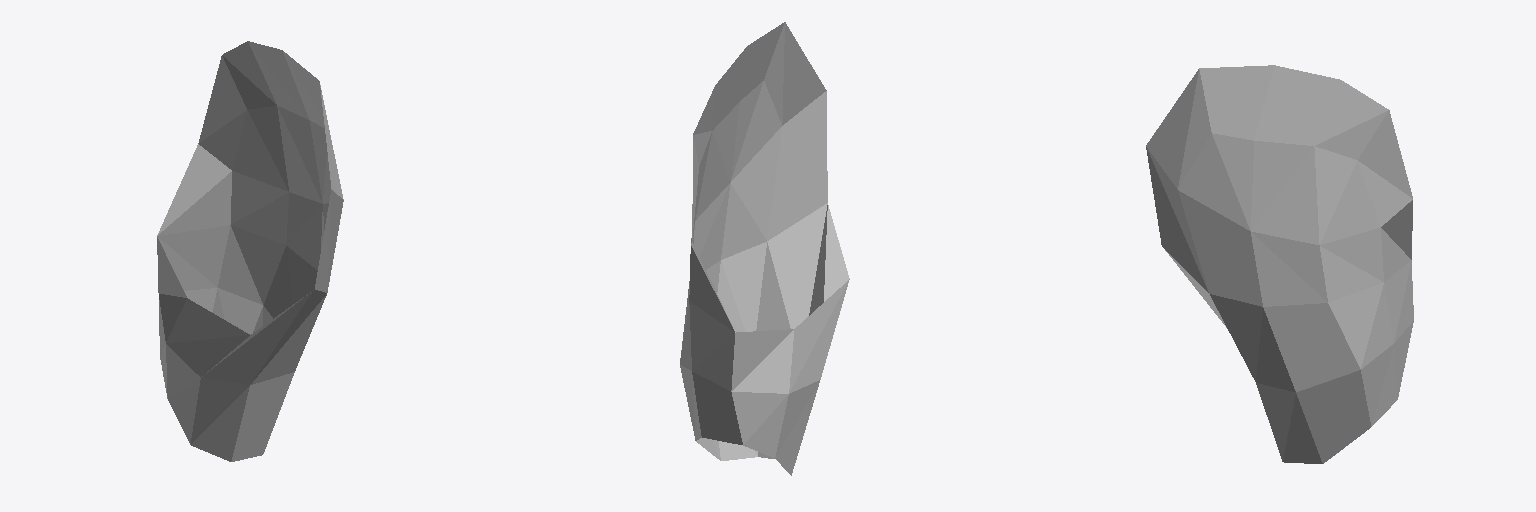
The model's file is 07A_front_left.obj.
3 renders of one model, left to right at view 1: azimuth 30°, elevation 25°; view 2: azimuth 150°, elevation 25°; view 3: azimuth 270°, elevation 25°, orthographic.
Parts seen in each view (by area): view 1: polySurface4 WolfMesh; view 2: polySurface4 WolfMesh; view 3: polySurface4 WolfMesh.
Boxes of the visible parts, x1,y1,x2,y2 form: polySurface4 WolfMesh: [157, 41, 343, 461]; polySurface4 WolfMesh: [680, 22, 849, 475]; polySurface4 WolfMesh: [1146, 65, 1413, 463].
Size of the model in its own units: 0.294 by 1.02 by 0.6146.